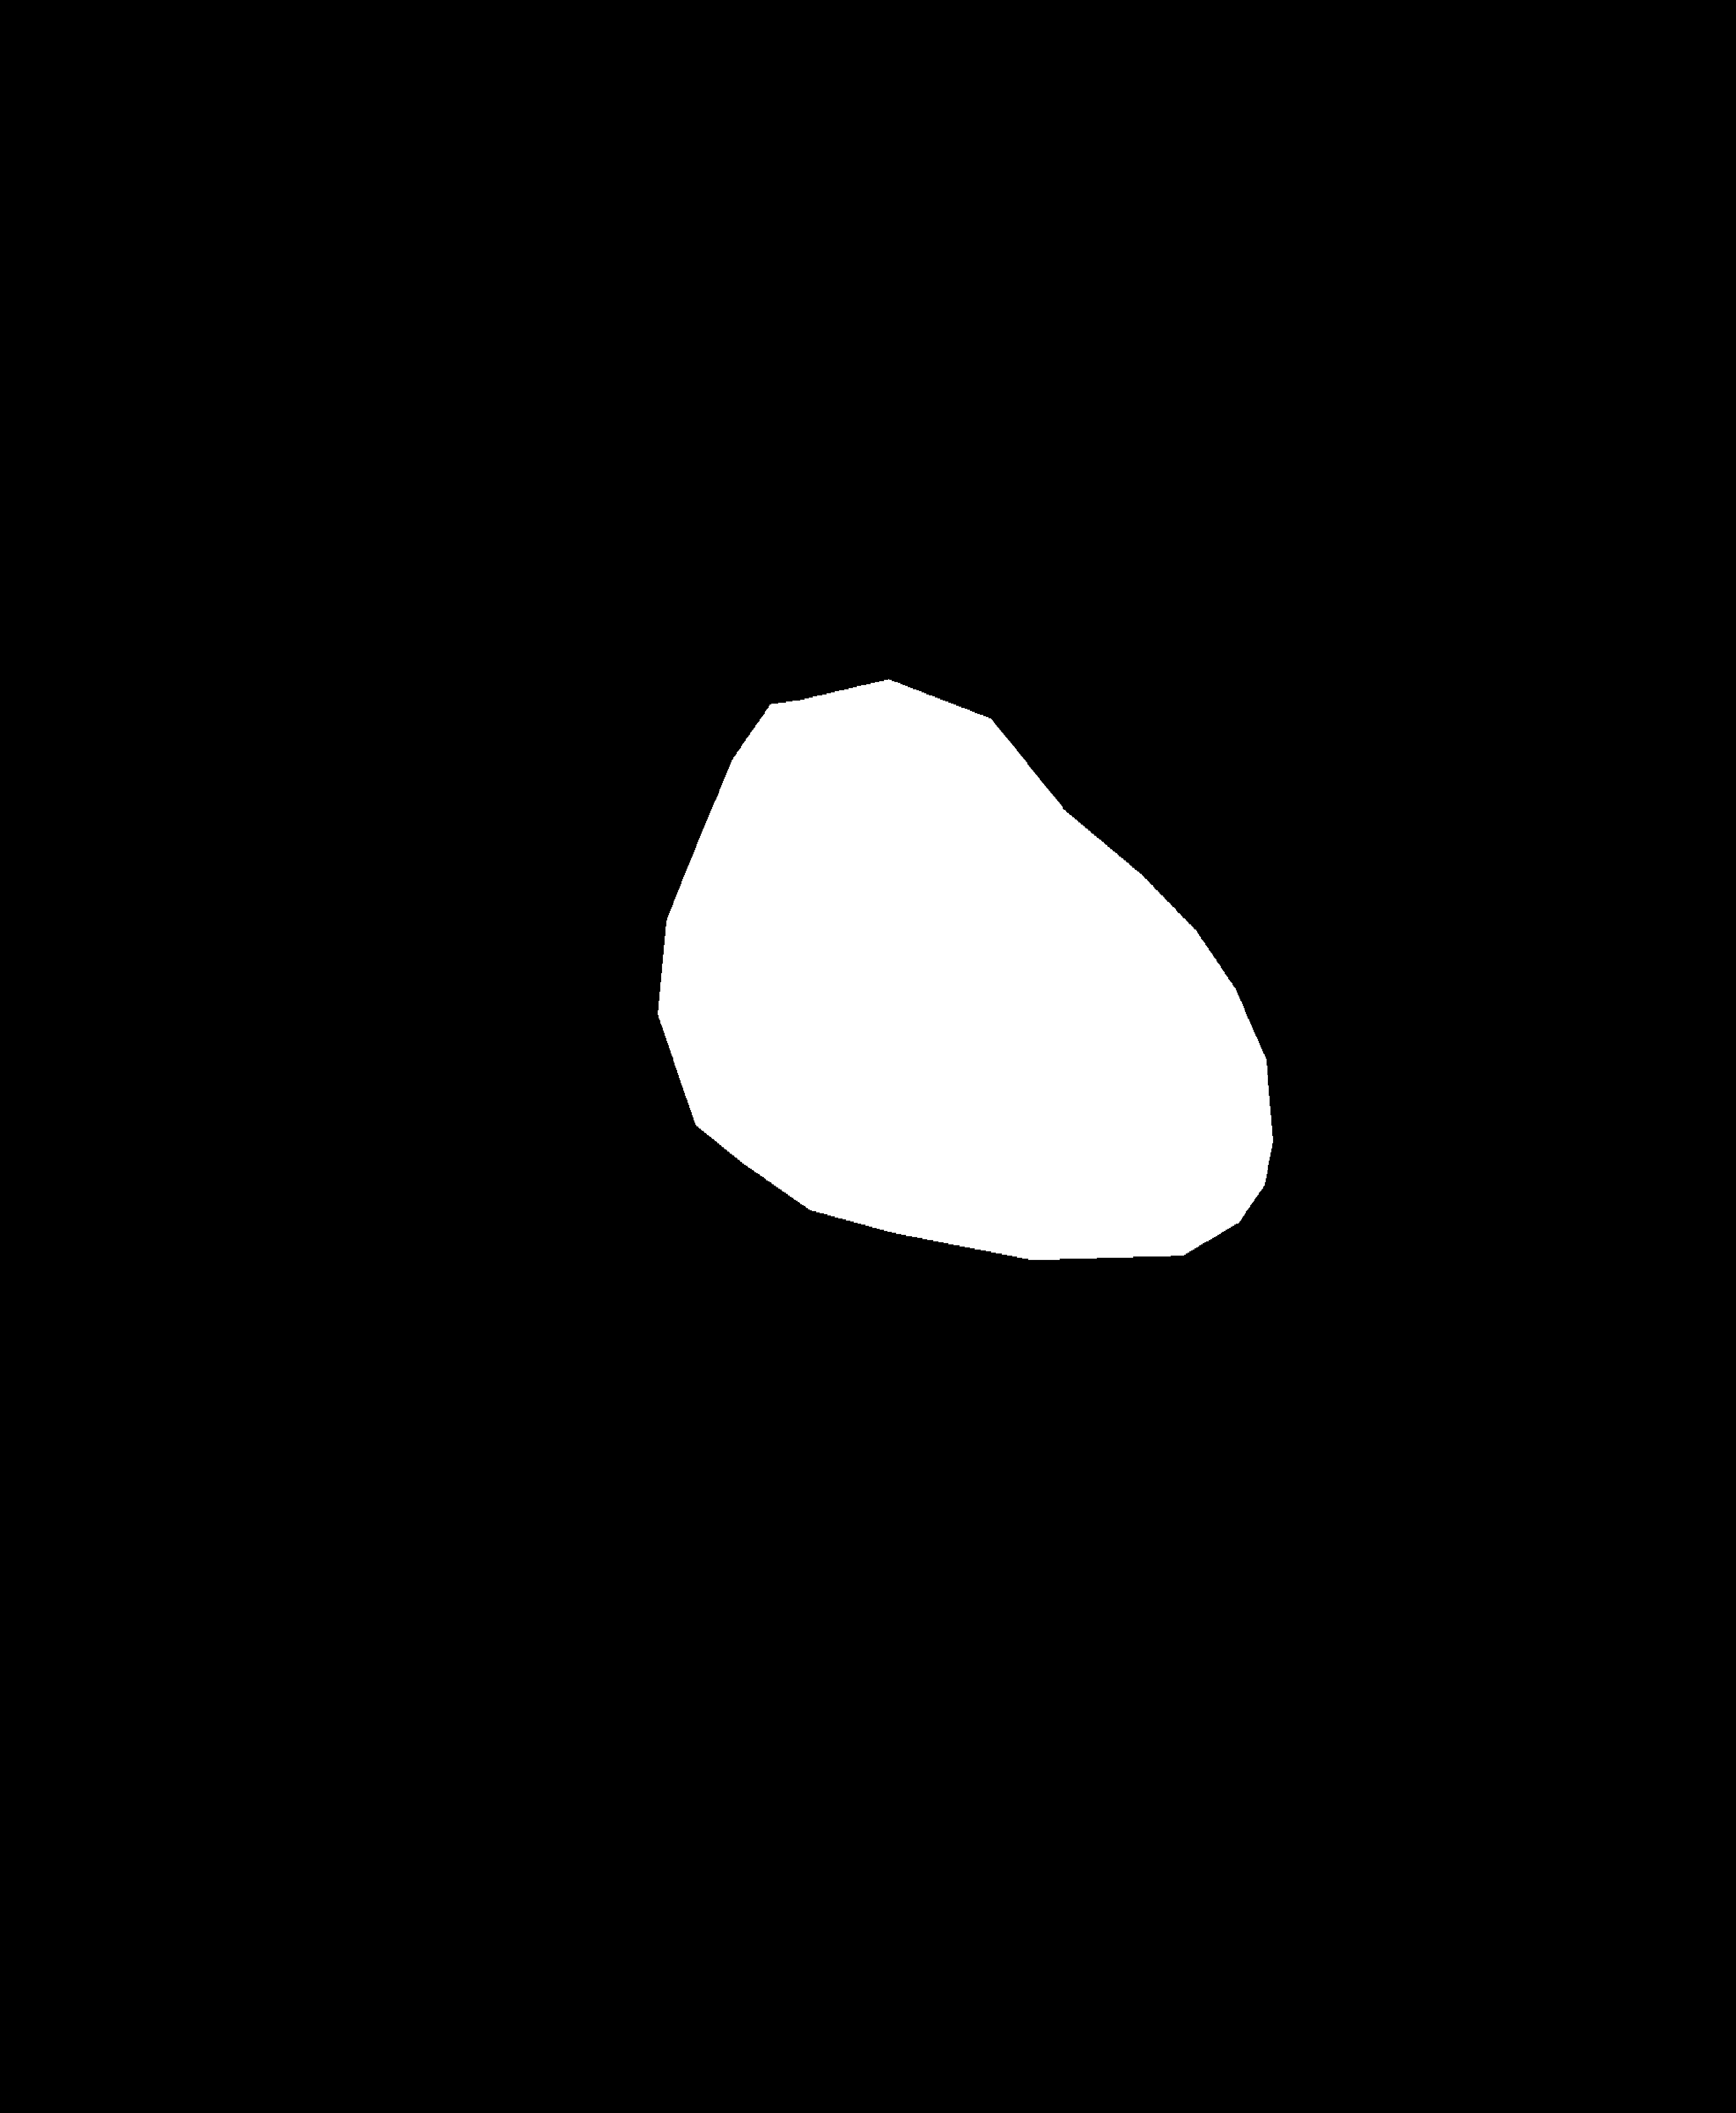heart: (635, 811, 1276, 1318)
left_lung: (107, 175, 809, 1455)
right_lung: (927, 191, 1582, 1407)
